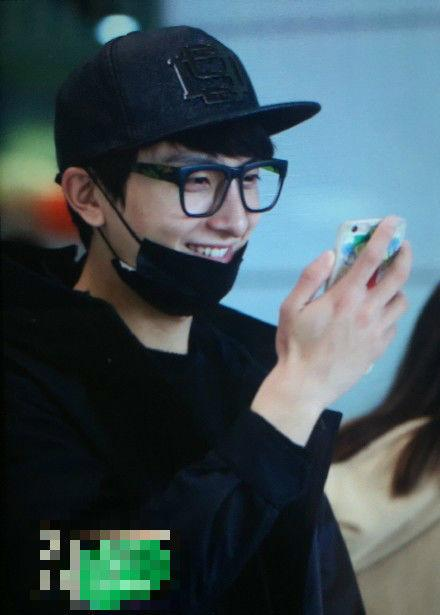face: (123, 100, 259, 304)
